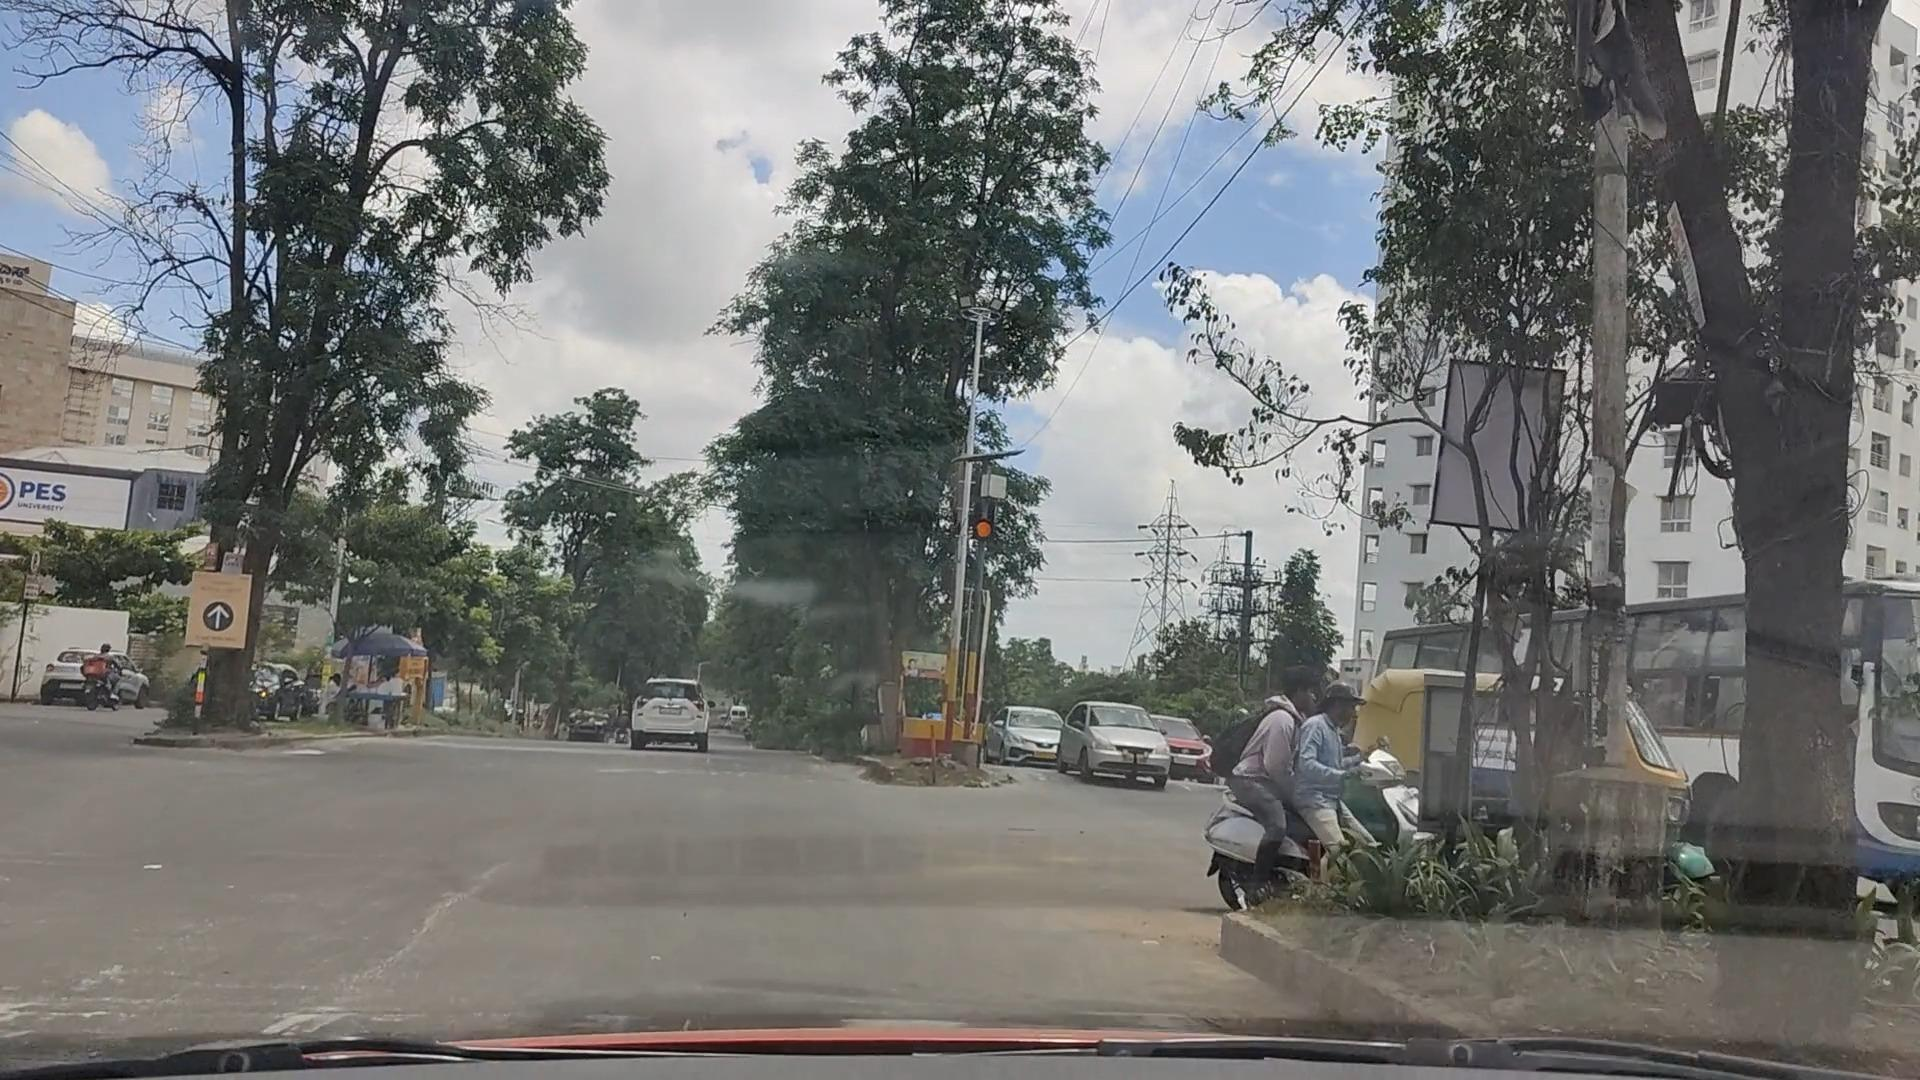RoadDamages: (352, 862, 512, 982)
